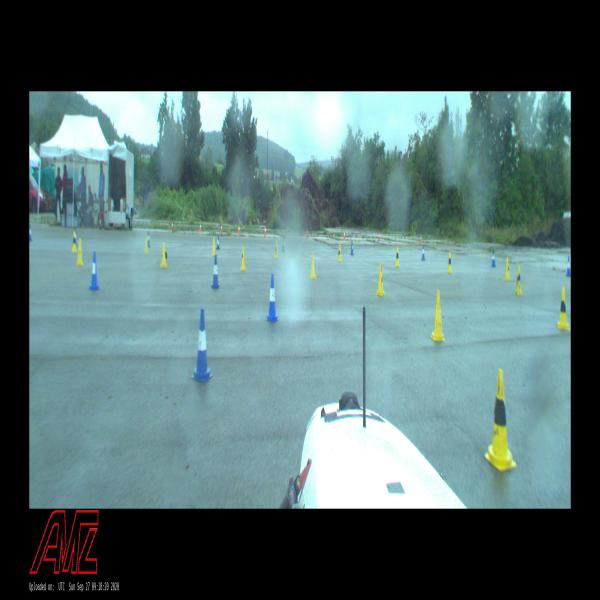blue_cone: (191, 309, 213, 381), (265, 274, 279, 321), (89, 251, 100, 290), (212, 255, 220, 288), (491, 249, 496, 267), (566, 256, 570, 276), (216, 235, 220, 249), (281, 237, 285, 251), (29, 225, 32, 241), (422, 245, 425, 260), (351, 240, 353, 255), (148, 231, 150, 246)
orange_cone: (343, 230, 346, 240), (264, 226, 266, 236), (200, 222, 202, 232), (238, 224, 240, 234), (306, 228, 308, 238), (378, 231, 380, 240), (420, 234, 422, 243), (171, 221, 173, 230), (220, 224, 222, 232)
yellow_cone: (485, 370, 517, 470), (431, 290, 445, 340), (558, 286, 570, 330), (376, 262, 385, 295), (515, 265, 522, 295), (76, 238, 84, 264), (160, 242, 167, 267), (310, 252, 316, 278), (241, 247, 246, 270), (505, 257, 510, 280), (447, 251, 452, 273), (72, 232, 77, 252), (395, 247, 399, 266), (274, 240, 278, 258), (144, 236, 148, 254), (212, 238, 216, 256), (338, 244, 342, 261)
